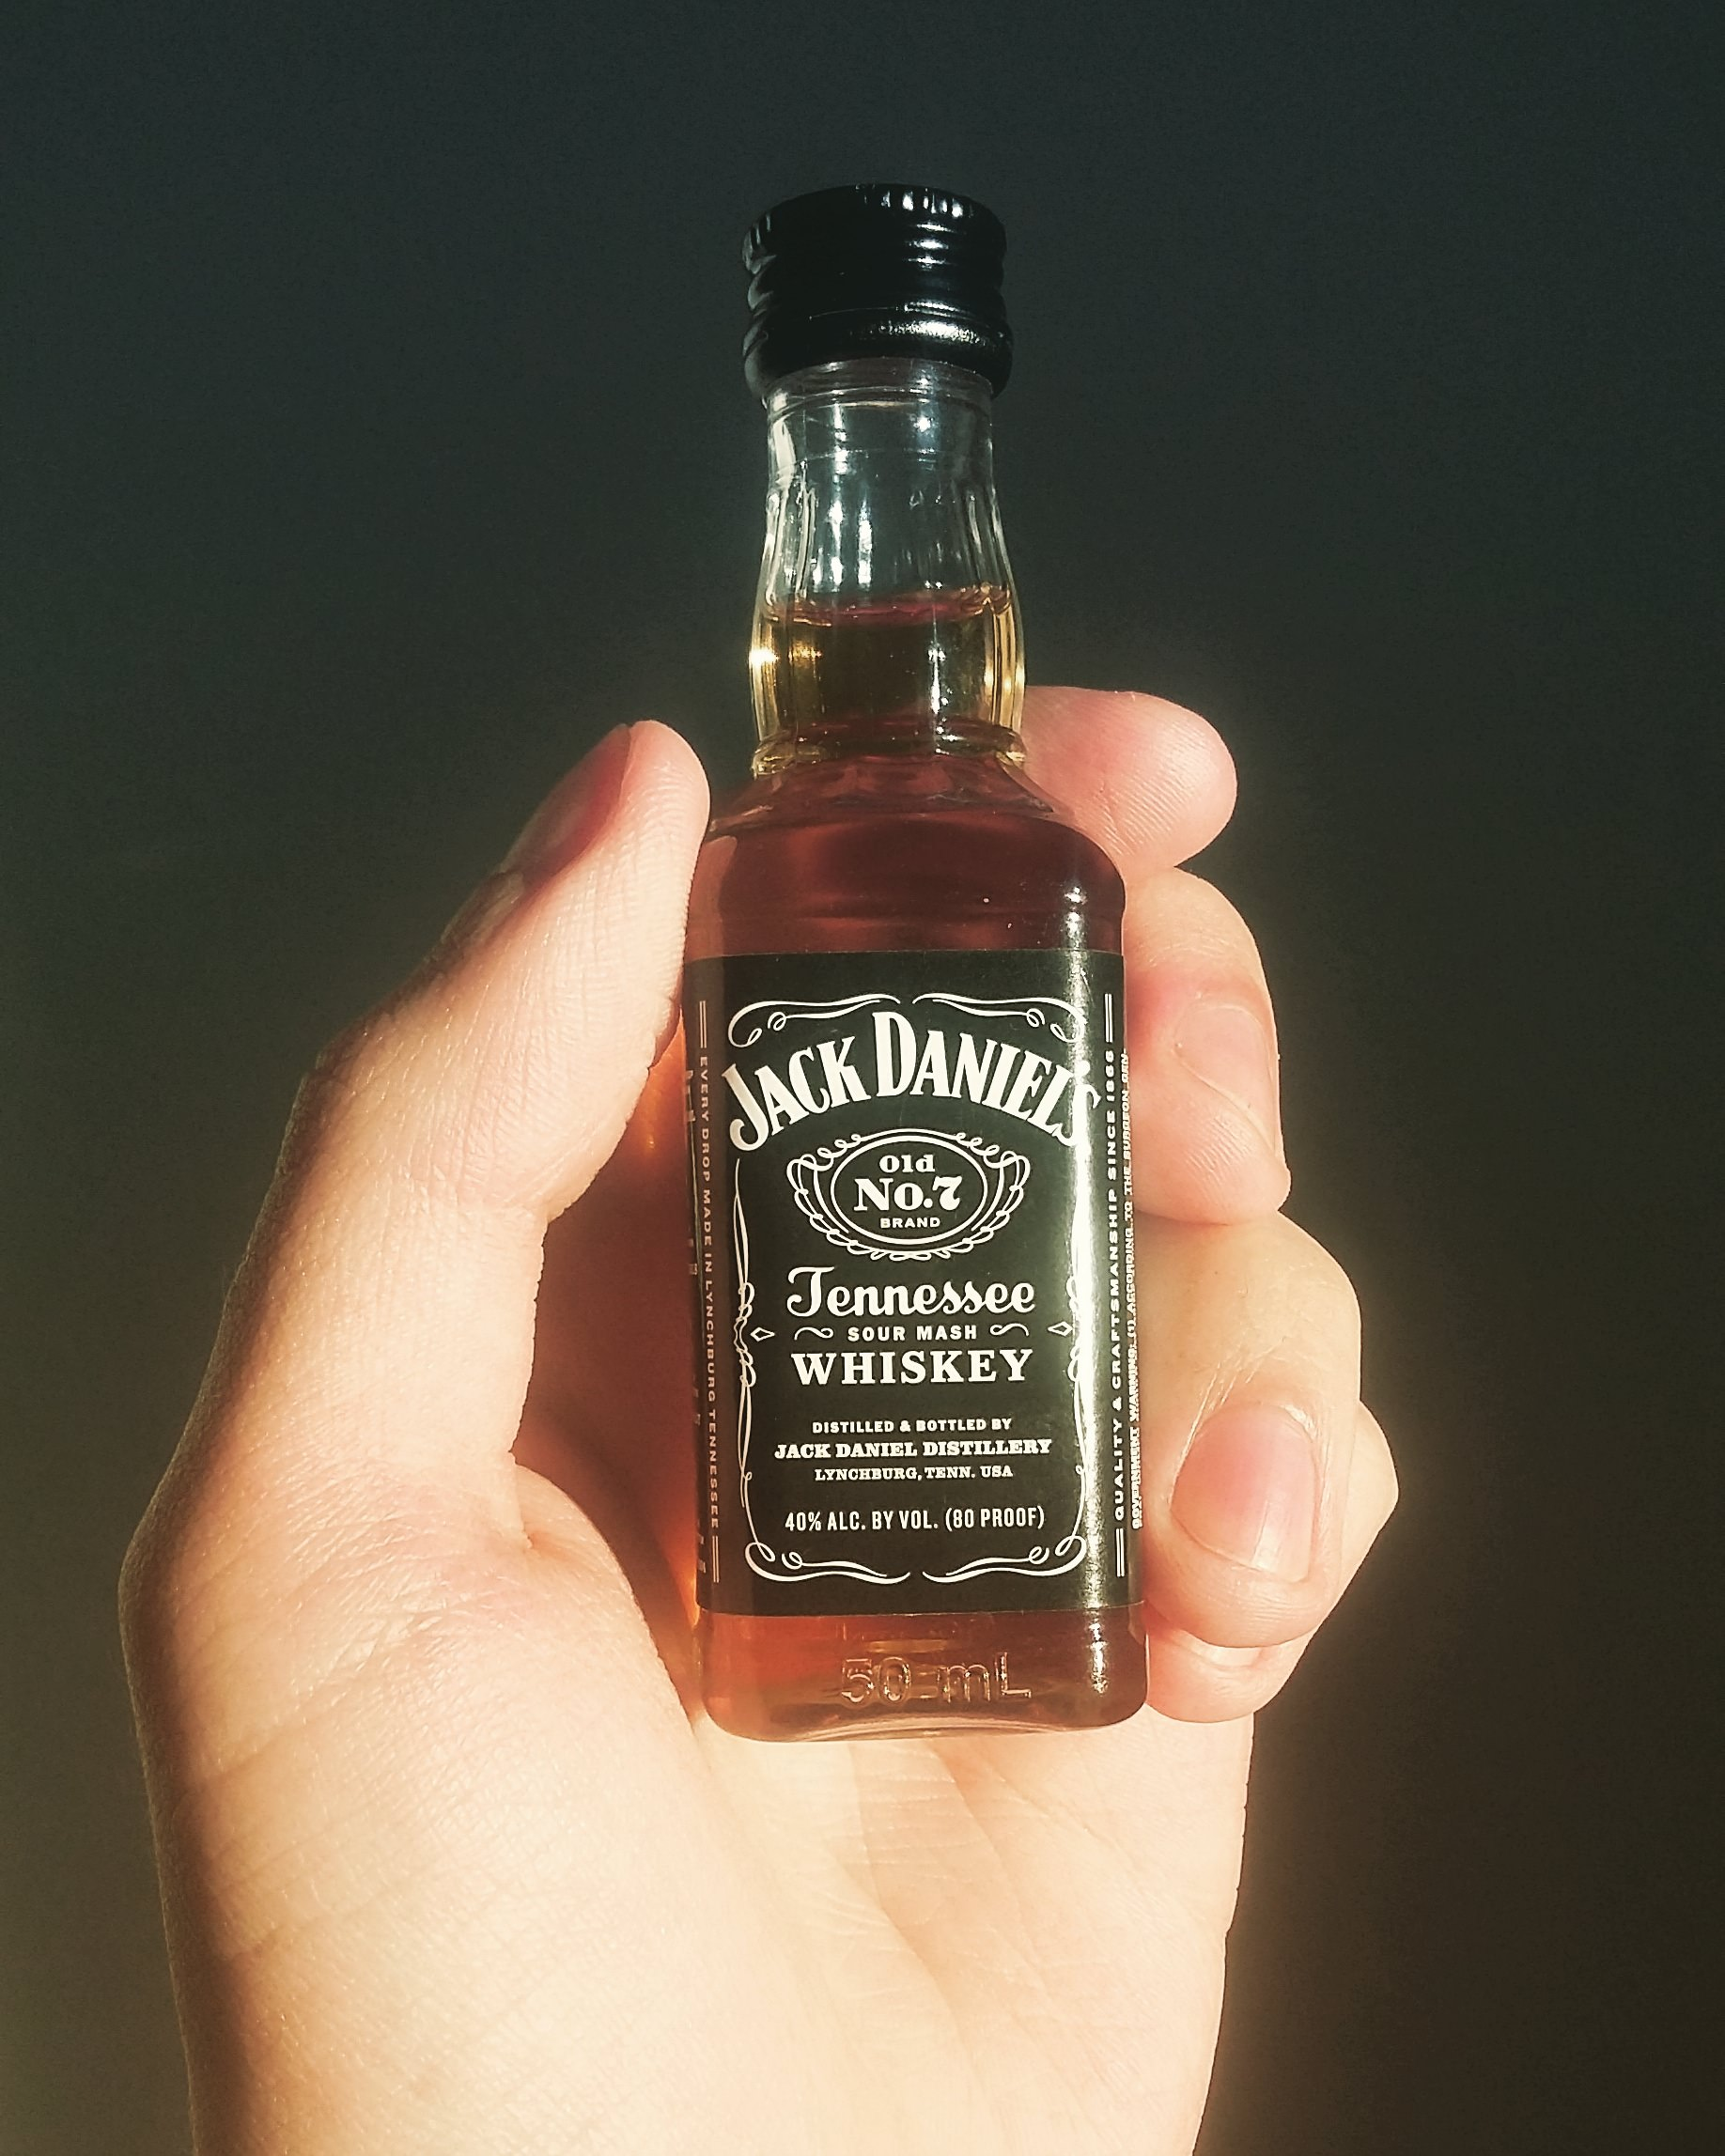Jack Daniel: (609, 139, 1213, 1786)
